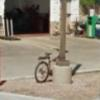bicycles: (35, 53, 60, 83)
